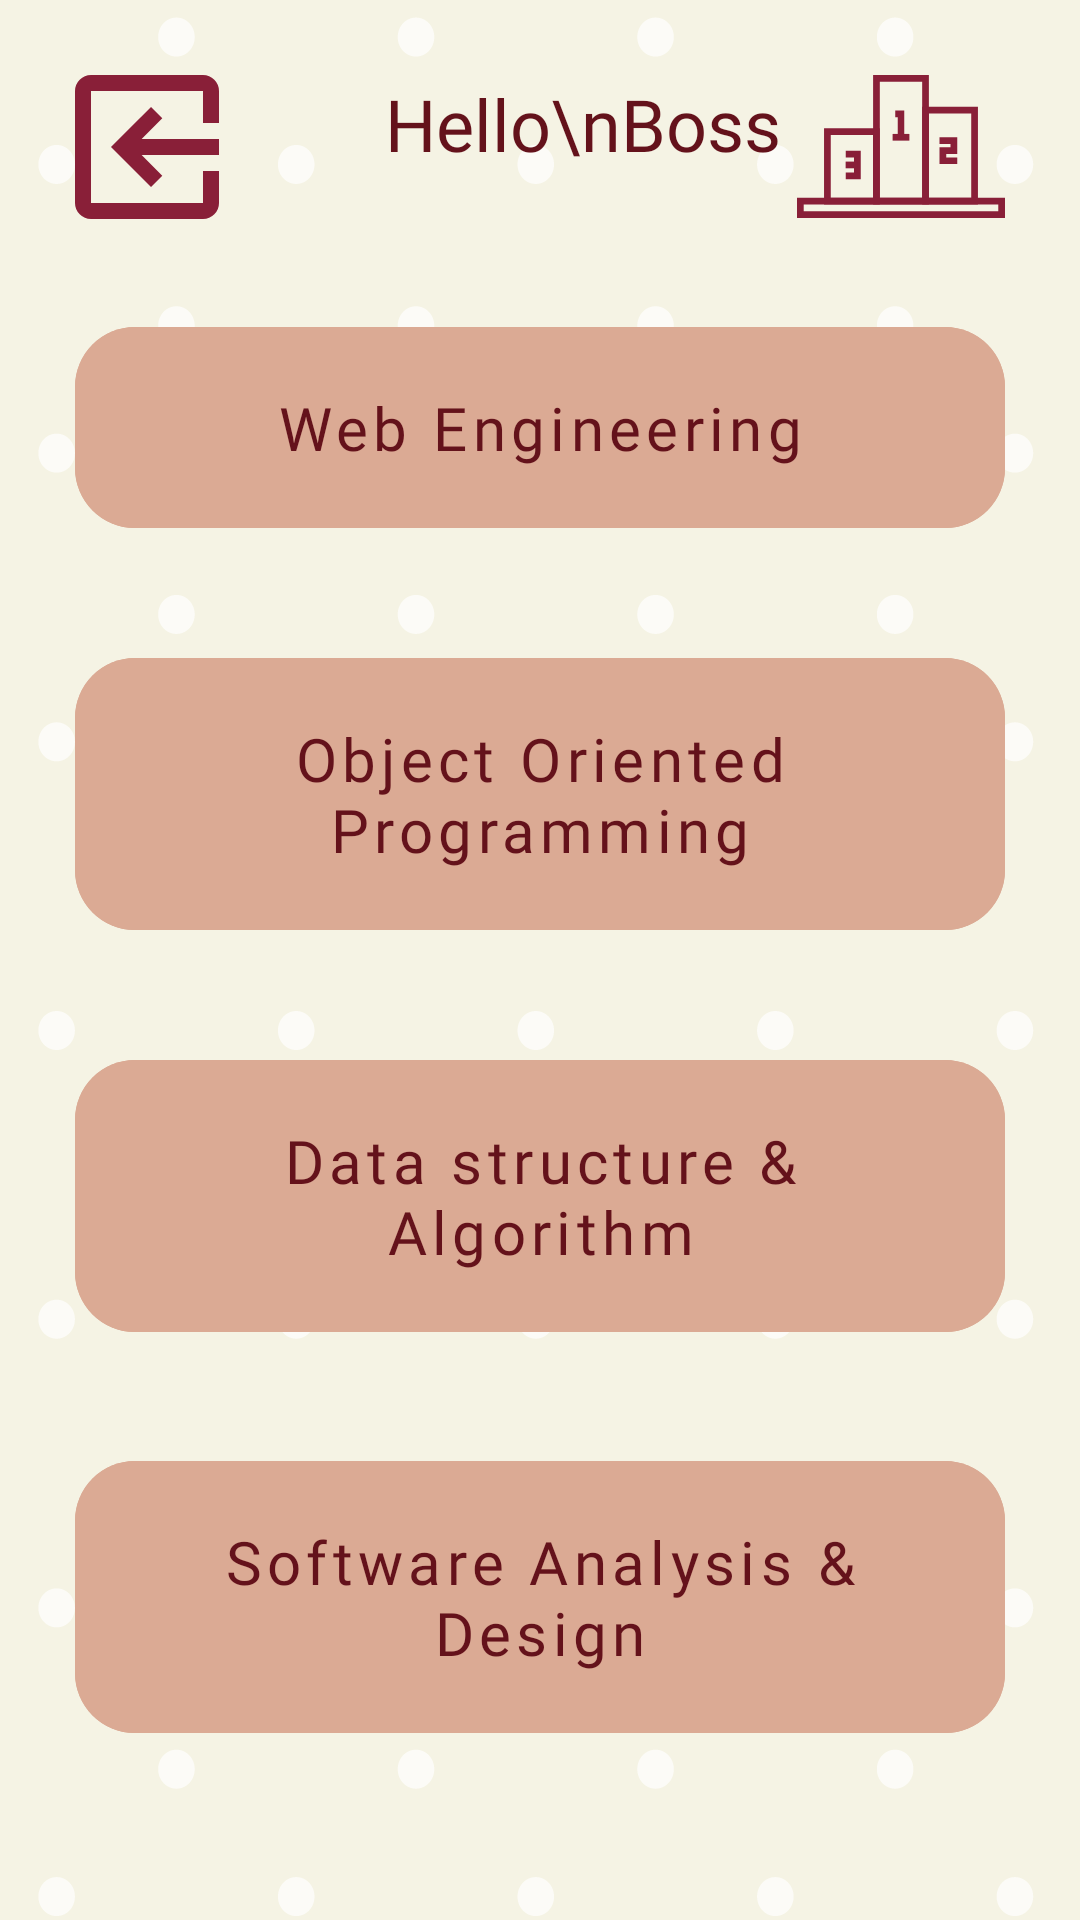

Where to tap for icons on this 1080×1920 app screen, as [x,y]:
ranking: [901,146]
